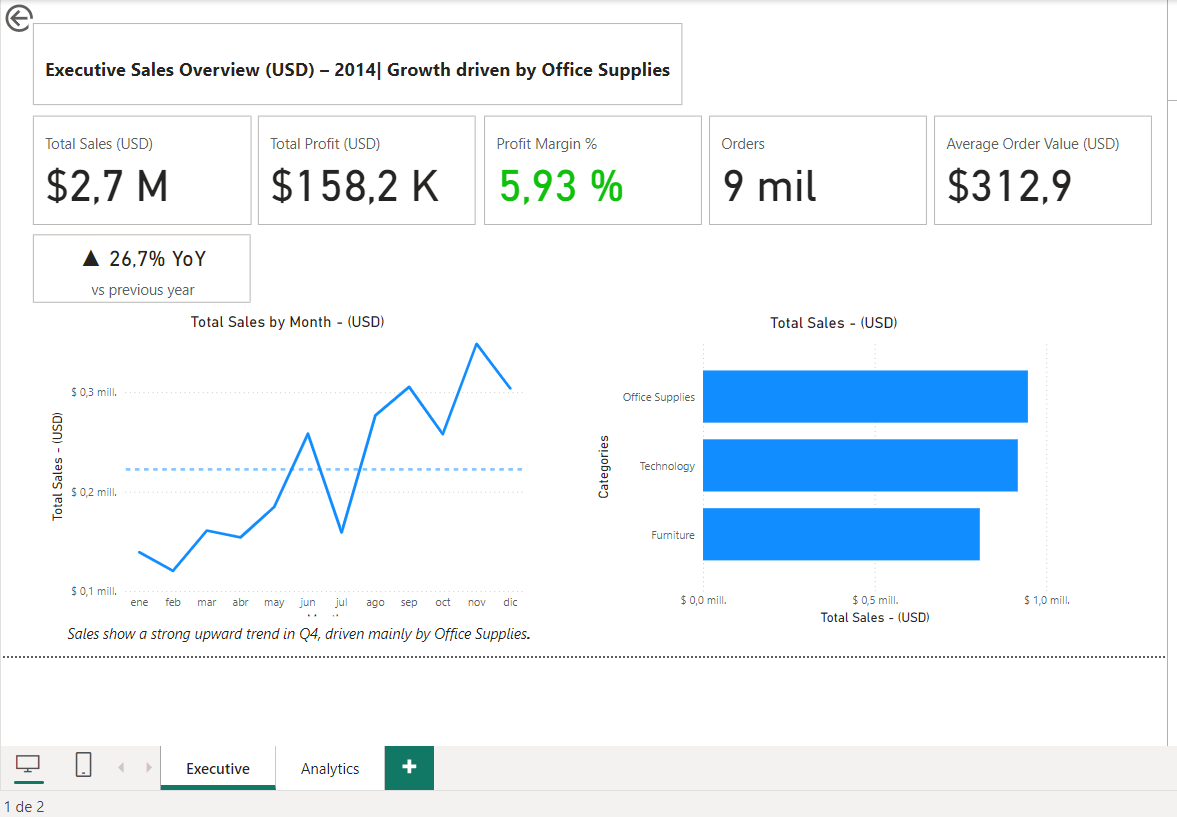

This screenshot's page, from the dashboard's own definition file:
{"tool":"powerbi","page":{"name":"Executive","canvas":[1280,720],"ordinal":0},"visuals":[{"type":"lineChart","title":"Total Sales by Month - (USD)","fields":{"Category":["Calendario.Mes"],"Y":["SuperStoreOrders.Ventas Totales"]},"box":[49.4,342.4,529.7,349.9],"z":0},{"type":"actionButton","box":[0,0,100,40],"z":1000},{"type":"cardVisual","fields":{"Data":["SuperStoreOrders.Ticket Promedio"]},"box":[1019.6,122.1,249.7,130.4],"z":2000},{"type":"cardVisual","fields":{"Data":["SuperStoreOrders.Orders"]},"box":[772.3,122.1,249.7,130.4],"z":3000},{"type":"cardVisual","fields":{"Data":["SuperStoreOrders.Total Profit (USD)"]},"box":[277.7,122.1,249.7,130.4],"z":4000},{"type":"cardVisual","fields":{"Data":["SuperStoreOrders.Total Sales (M)"]},"box":[30.2,122.1,250,130],"z":5000},{"type":"clusteredBarChart","title":"Total Sales - (USD)","fields":{"Category":["SuperStoreOrders.category"],"Y":["SuperStoreOrders.Ventas Totales"]},"box":[649.1,343.7,529.7,347.2],"z":6000},{"type":"cardVisual","fields":{"Data":["SuperStoreOrders.Margen % KPI"]},"box":[525,122.1,249.7,130.4],"z":7000},{"type":"textbox","box":[0,676.5,649.1,43.9],"z":8000},{"type":"cardVisual","fields":{"Data":["SuperStoreOrders.Title Year"]},"box":[30.2,20.6,723.2,100.2],"z":9000},{"type":"cardVisual","fields":{"Data":["SuperStoreOrders.Sales YoY Text"]},"box":[30.2,252.5,249.7,85.1],"z":10000}]}

Visuals, with their boxes on the page's 1280x720 design canvas (x1, y1, x2, y2). These are canvas units, not pixel positions in the 1177x817 screenshot, which may show the page scaled, cropped or inside an application window:
"Total Sales by Month - (USD)" lineChart: <bbox>49, 342, 579, 692</bbox>
actionButton: <bbox>0, 0, 100, 40</bbox>
cardVisual - SuperStoreOrders.Ticket Promedio: <bbox>1020, 122, 1269, 252</bbox>
cardVisual - SuperStoreOrders.Orders: <bbox>772, 122, 1022, 252</bbox>
cardVisual - SuperStoreOrders.Total Profit (USD): <bbox>278, 122, 527, 252</bbox>
cardVisual - SuperStoreOrders.Total Sales (M): <bbox>30, 122, 280, 252</bbox>
"Total Sales - (USD)" clusteredBarChart: <bbox>649, 344, 1179, 691</bbox>
cardVisual - SuperStoreOrders.Margen % KPI: <bbox>525, 122, 775, 252</bbox>
textbox: <bbox>0, 676, 649, 720</bbox>
cardVisual - SuperStoreOrders.Title Year: <bbox>30, 21, 753, 121</bbox>
cardVisual - SuperStoreOrders.Sales YoY Text: <bbox>30, 252, 280, 338</bbox>
